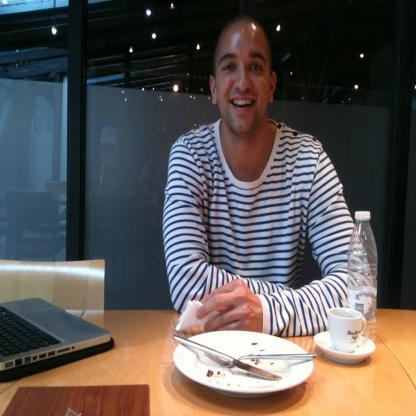board: (0, 297, 114, 377), (347, 210, 378, 342)
